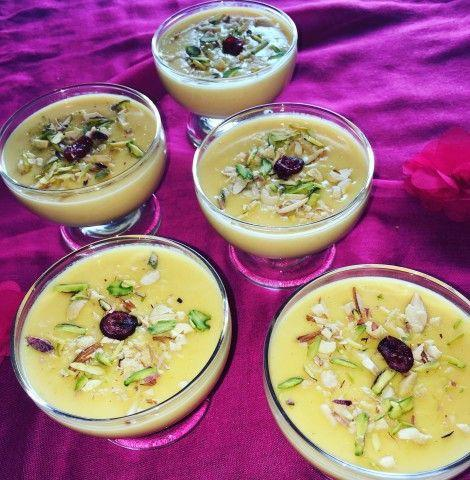Kheer: (269, 272, 470, 477), (17, 245, 227, 435), (198, 116, 373, 254), (0, 93, 164, 226), (150, 0, 297, 121)
